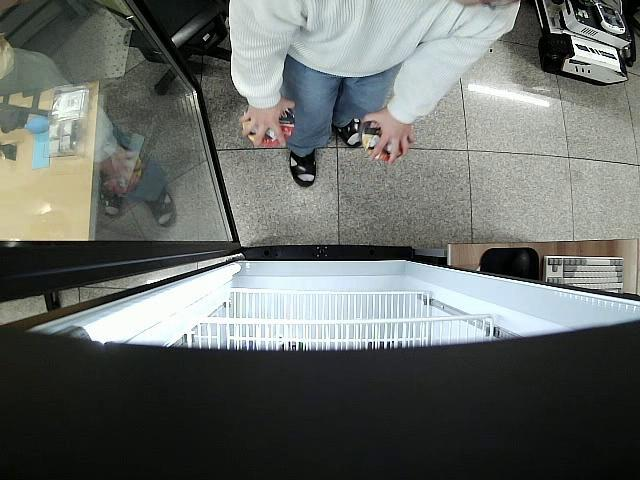07_buldak_L: (244, 107, 295, 146), (362, 122, 408, 162)
